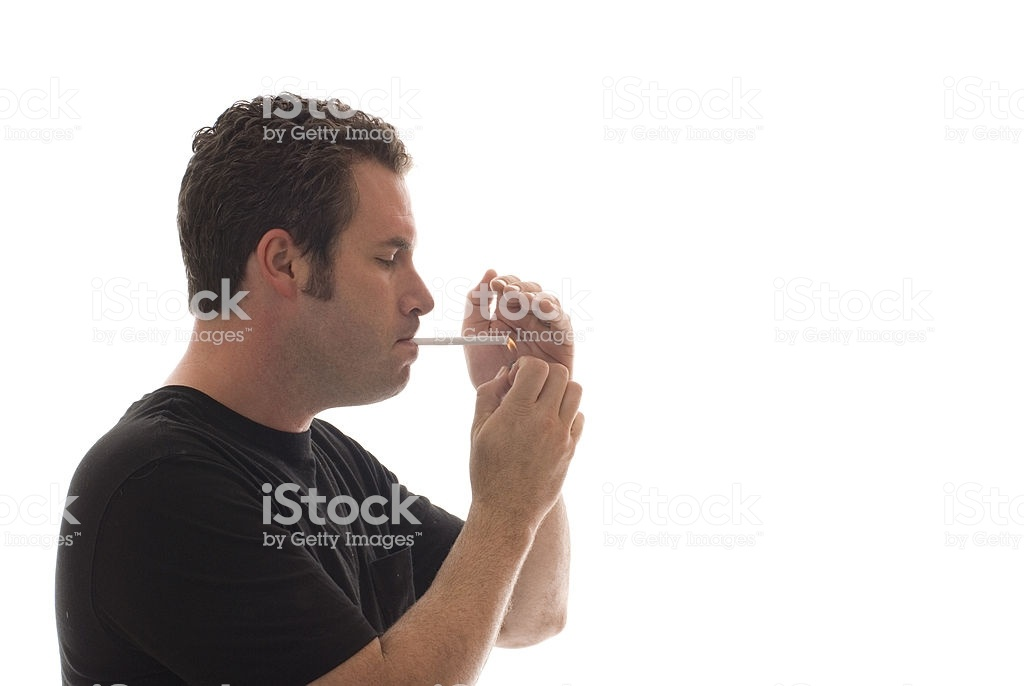sigaretta: (410, 330, 522, 350)
